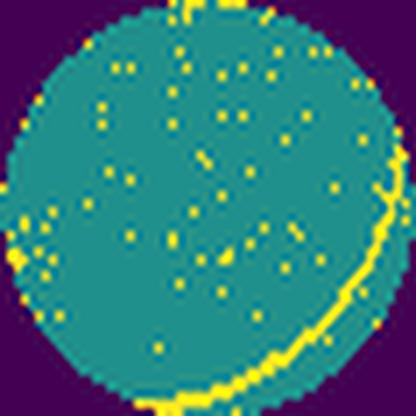Scratch: (127, 139, 412, 416)
